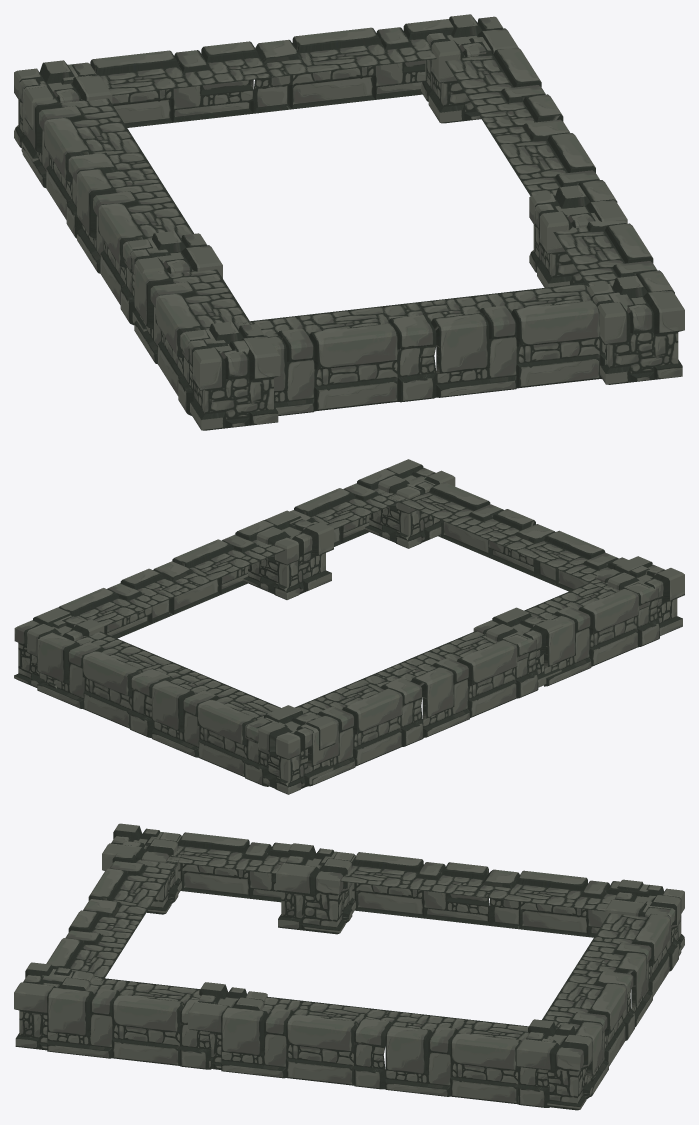
The model's file is polysurface526_txt_truc_en_pierrebas_0_lev1_lev2.glb.
3 renders of one model, top to bottom at view 1: azimuth 30°, elevation 25°; view 2: azimuth 150°, elevation 25°; view 3: azimuth 270°, elevation 25°, orthographic. The views are drawn at different scales.
Parts seen in each view (by area): view 1: polysurface526_txt_truc_en_pierrebas_0_lev1_lev2; view 2: polysurface526_txt_truc_en_pierrebas_0_lev1_lev2; view 3: polysurface526_txt_truc_en_pierrebas_0_lev1_lev2.
Boxes of the visible parts, x1=… form: polysurface526_txt_truc_en_pierrebas_0_lev1_lev2: x1=14, y1=14, x2=684, y2=430; polysurface526_txt_truc_en_pierrebas_0_lev1_lev2: x1=14, y1=459, x2=684, y2=794; polysurface526_txt_truc_en_pierrebas_0_lev1_lev2: x1=14, y1=823, x2=684, y2=1110.
Size of the model in its own units: 9.83 by 1.19 by 12.1.
1 material, 1 textured.
